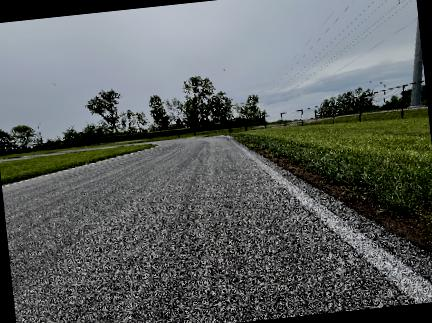Grass: (234, 118, 431, 254), (0, 144, 154, 185)
Lane: (2, 137, 431, 322)
